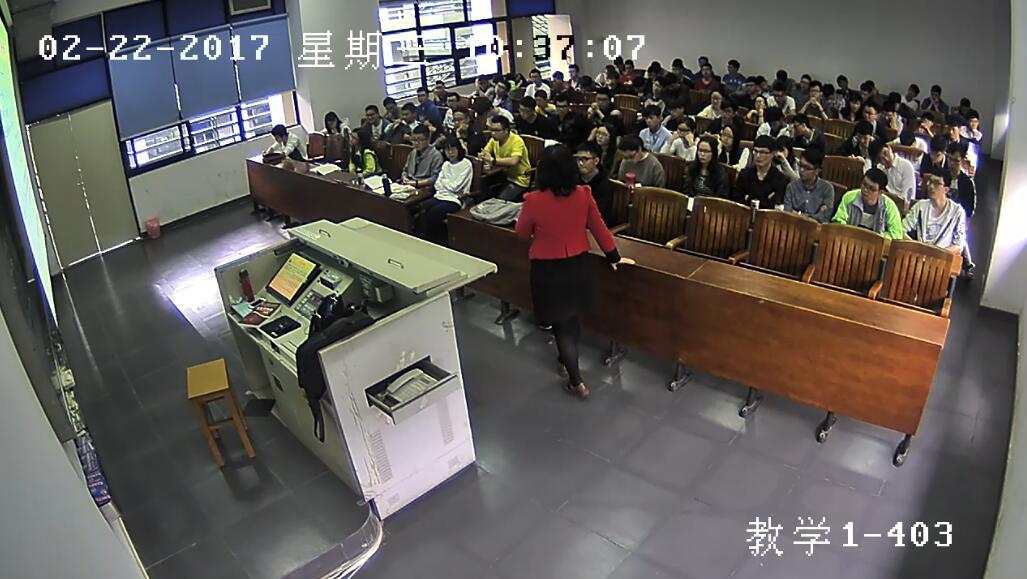head: (536, 148, 573, 187), (750, 134, 773, 167), (576, 142, 596, 177), (924, 172, 945, 201), (871, 140, 894, 166), (861, 170, 880, 199), (618, 135, 638, 162), (798, 150, 816, 180), (717, 120, 736, 148), (924, 136, 943, 163), (674, 114, 693, 139), (694, 137, 712, 163), (852, 121, 870, 147), (766, 103, 783, 130), (409, 123, 426, 149), (773, 137, 793, 157), (441, 138, 458, 161), (643, 103, 658, 129), (946, 146, 962, 169), (269, 123, 287, 143), (486, 118, 504, 138), (792, 114, 809, 135), (667, 97, 683, 119), (897, 129, 916, 146), (451, 109, 469, 126), (473, 96, 491, 113), (846, 89, 860, 110), (364, 102, 377, 124), (517, 98, 530, 120), (596, 125, 611, 144), (707, 87, 722, 106), (862, 100, 877, 119), (919, 110, 934, 129), (553, 96, 566, 116), (348, 127, 364, 143), (421, 115, 436, 131), (493, 77, 505, 97), (725, 57, 740, 73), (864, 76, 879, 92), (796, 71, 810, 88), (771, 80, 784, 98), (822, 82, 835, 100), (947, 117, 959, 136), (322, 112, 336, 128), (833, 71, 847, 87), (533, 88, 545, 106), (773, 66, 787, 81), (743, 74, 754, 93), (957, 96, 970, 112), (593, 89, 605, 106), (579, 72, 591, 89), (904, 81, 916, 98), (666, 73, 677, 91), (857, 80, 868, 98), (381, 96, 395, 110), (670, 58, 684, 72), (632, 76, 646, 90), (751, 95, 765, 109), (886, 91, 900, 105), (398, 104, 411, 119), (722, 104, 735, 119), (880, 103, 893, 118), (928, 84, 940, 100), (809, 81, 819, 100), (446, 90, 457, 107), (415, 88, 427, 103), (432, 77, 444, 92), (526, 67, 538, 82), (603, 71, 615, 86), (967, 111, 978, 127), (649, 57, 661, 71), (566, 62, 577, 77), (651, 78, 662, 93), (755, 73, 766, 88), (599, 62, 613, 73), (476, 74, 486, 89), (700, 62, 710, 77), (551, 70, 562, 83), (695, 53, 707, 64), (622, 58, 631, 72), (645, 66, 656, 77), (510, 71, 521, 81), (613, 53, 621, 65)
